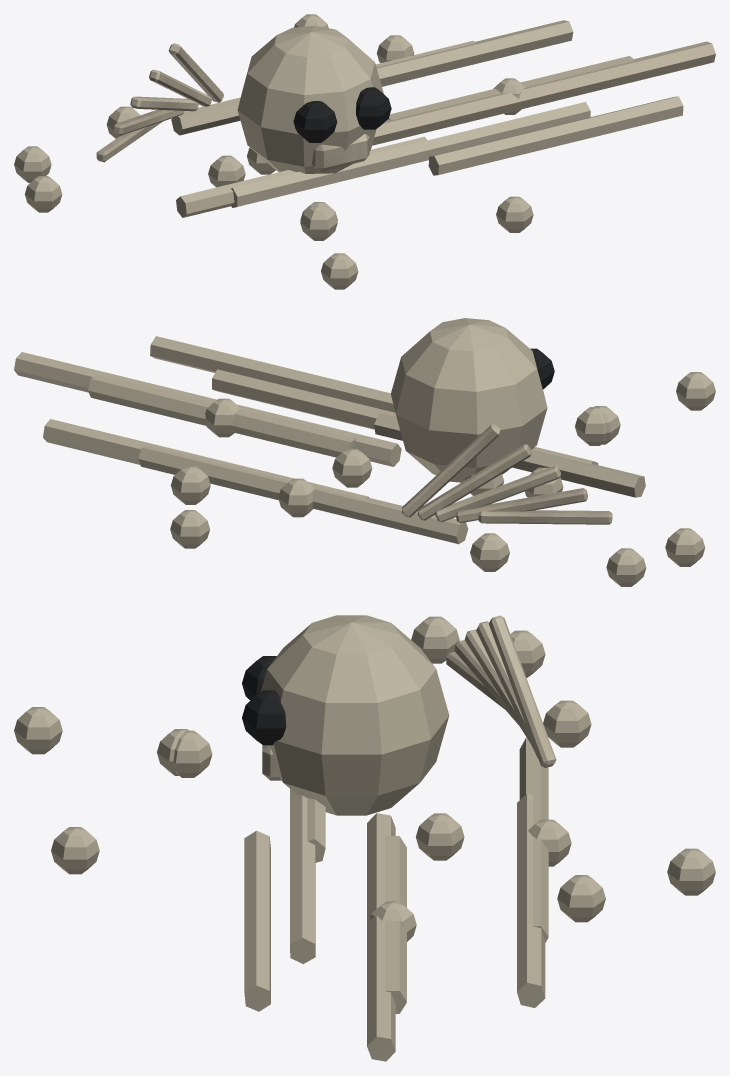
The model's file is bone_pile.glb.
3 views of the same model, one above another, from view 1: azimuth 30°, elevation 25°; view 2: azimuth 150°, elevation 25°; view 3: azimuth 270°, elevation 25° (orthographic). The views are drawn at different scales.
Visible parts, largest first — view 1: body; view 2: body; view 3: body.
Part boxes in pixels (x1,y1,x2,y2): body: (14, 14, 715, 289); body: (14, 318, 715, 586); body: (14, 615, 715, 1061).
Bounding box in the file's own units: 1.22 × 0.256 × 0.8626.
Materials: 2 (1 with a texture image).
